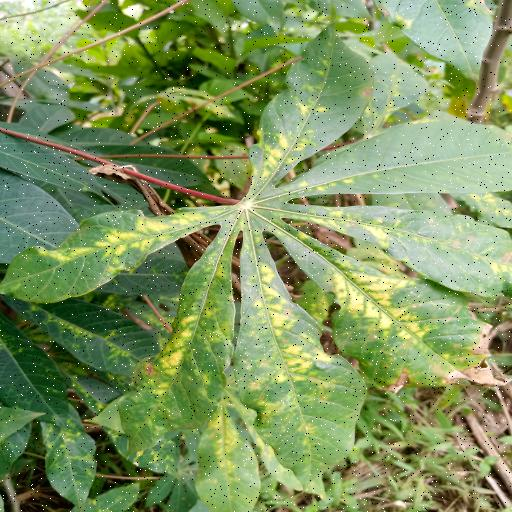Cassava_Mosaic: (2, 42, 512, 486)
